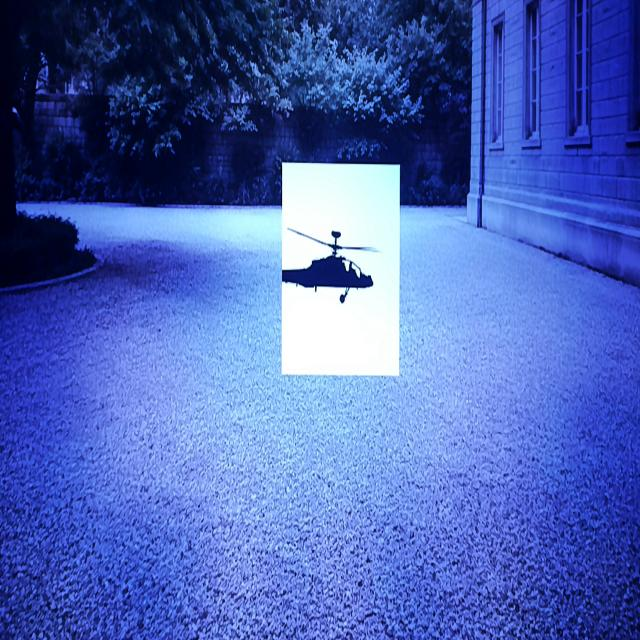Apache friendly: (283, 228, 376, 302)
